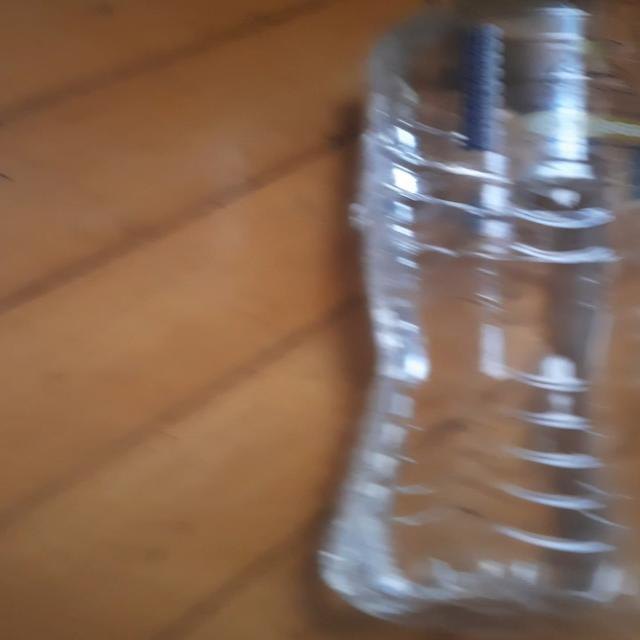Plastic: (308, 0, 640, 640)
